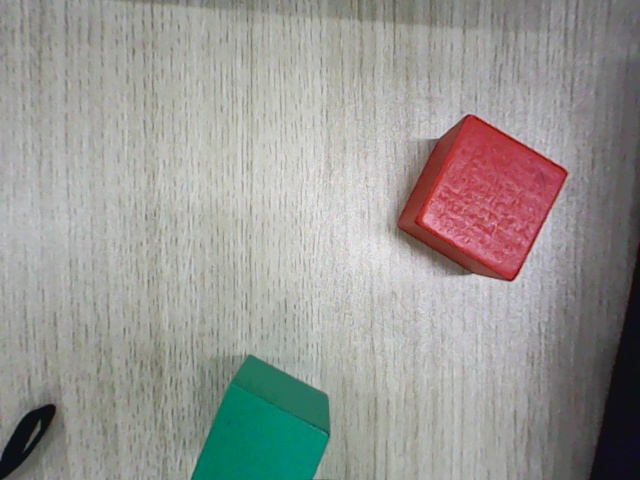upside of big cube: (417, 117, 569, 282), (191, 381, 330, 479)
